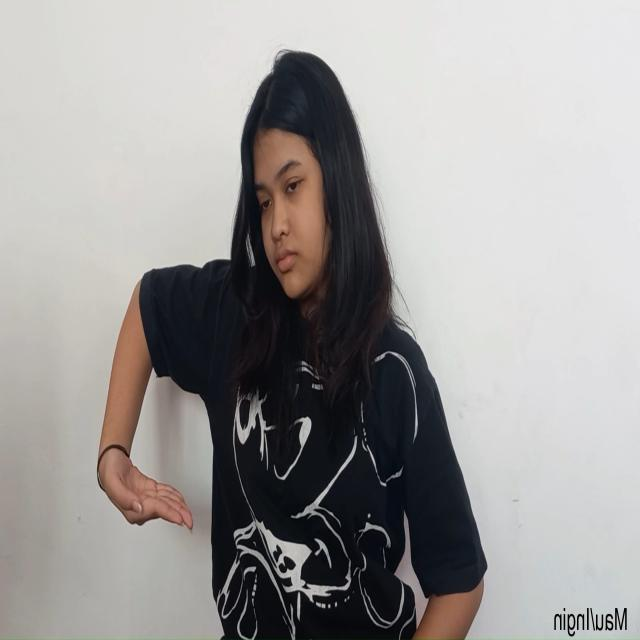Mau-Ingin -BISINDO-: (94, 441, 196, 538)
